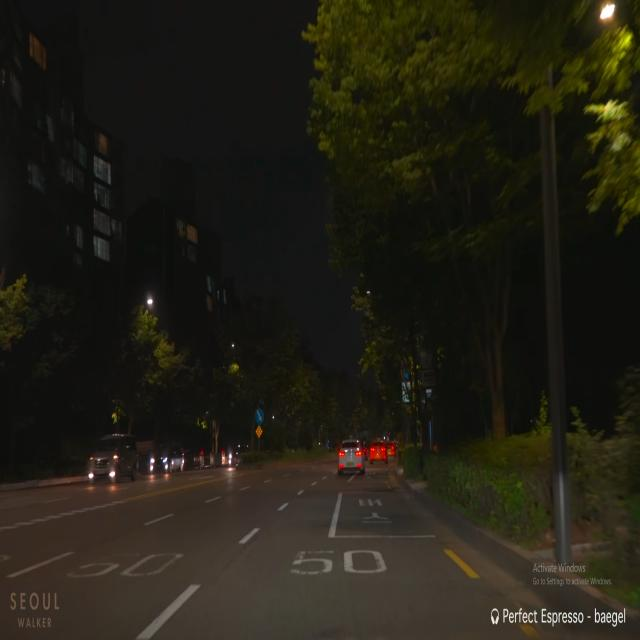headlights: (87, 451, 124, 484), (146, 450, 173, 478)
